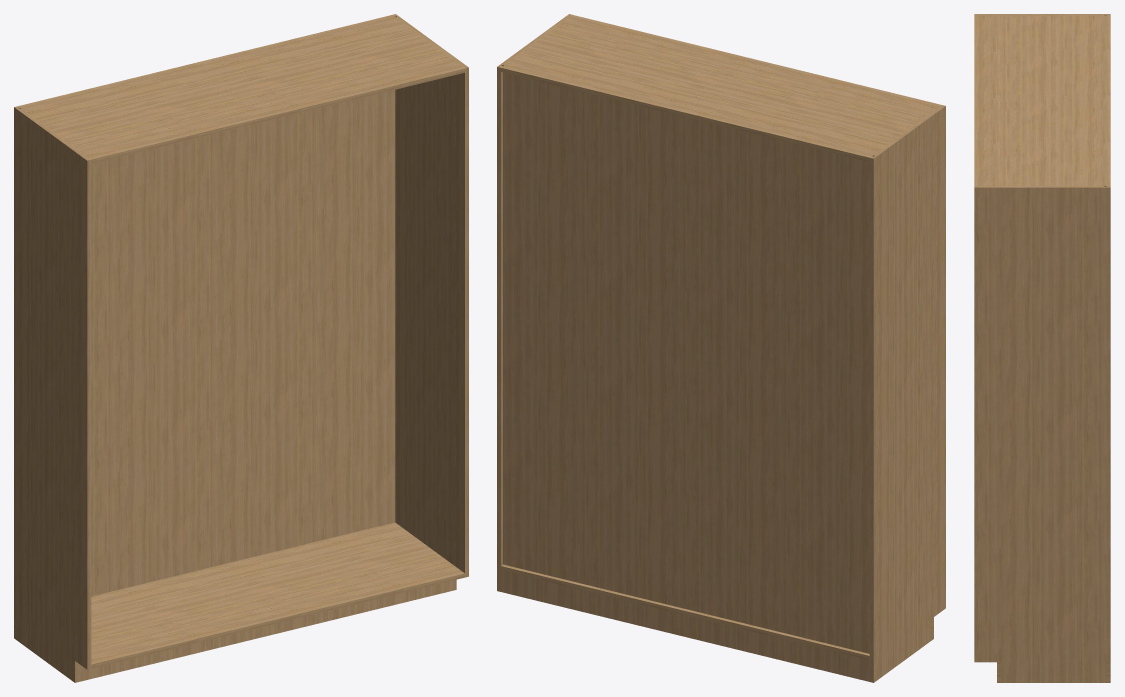
3 renders of one model, left to right at view 1: azimuth 30°, elevation 25°; view 2: azimuth 150°, elevation 25°; view 3: azimuth 270°, elevation 25°, orthographic. The views are drawn at different scales.
Parts seen in each view (by area): view 1: Geom3D.002; view 2: Geom3D.002; view 3: Geom3D.002.
Boxes of the visible parts, x1=… form: Geom3D.002: x1=14, y1=14, x2=468, y2=682; Geom3D.002: x1=497, y1=14, x2=945, y2=682; Geom3D.002: x1=974, y1=14, x2=1110, y2=682.
Size of the model in its own units: 1.81 by 2.4 by 0.6.
Materials: 1 (1 with a texture image).
